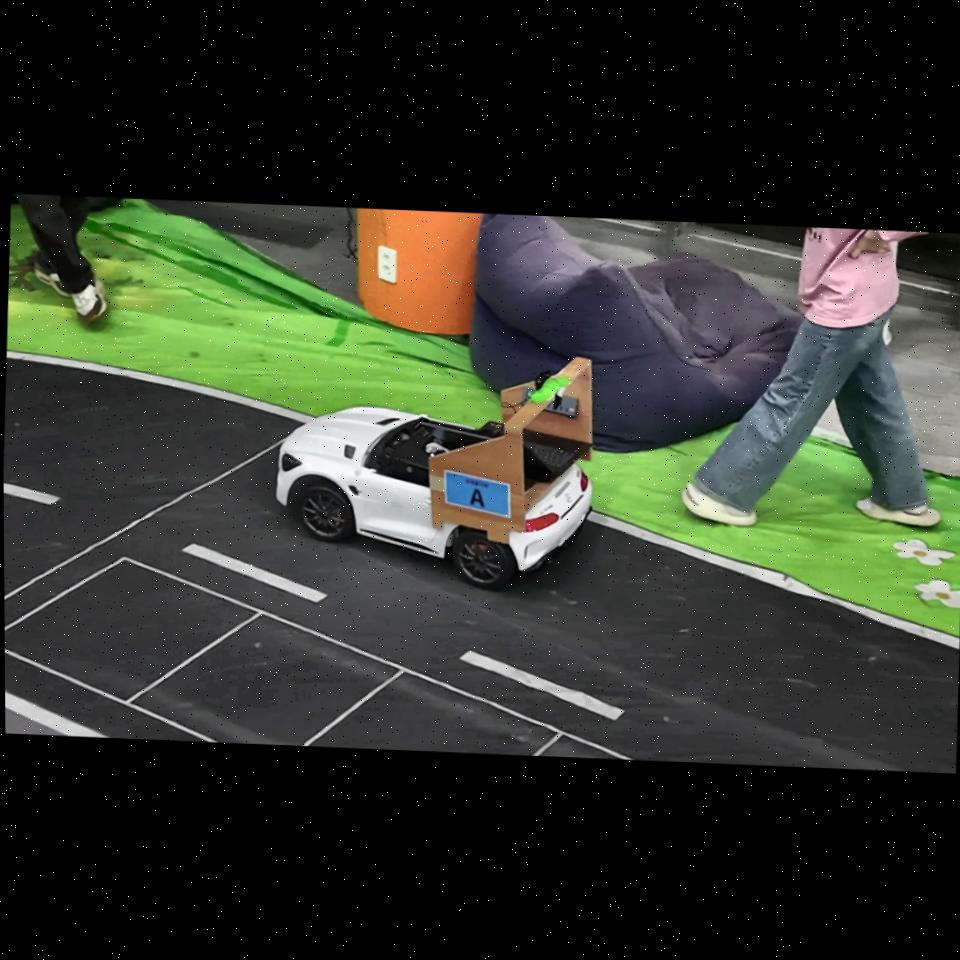broken_line: (459, 650, 625, 720), (181, 543, 328, 603), (4, 483, 60, 505)
